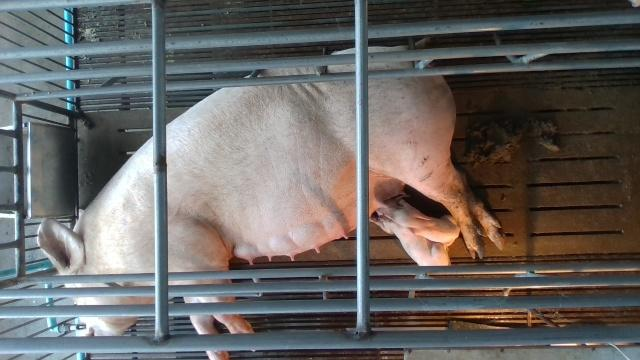piglet: (370, 213, 452, 268), (379, 198, 461, 246)
sow-sleep-lactate: (38, 46, 505, 360)
